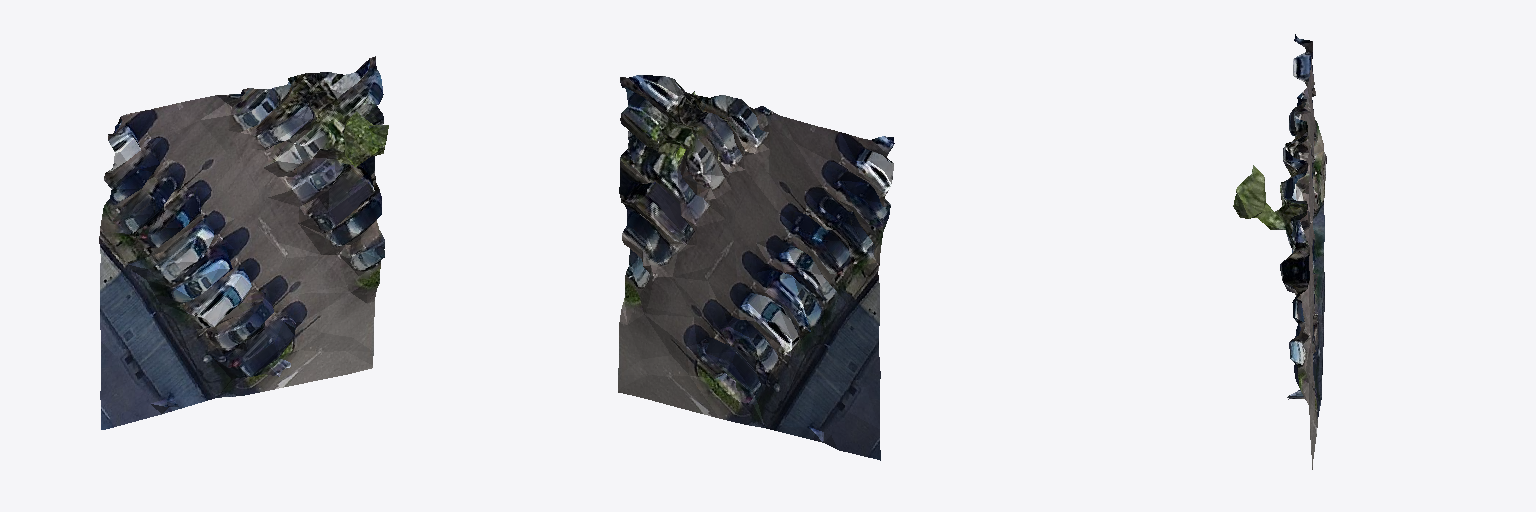
3 renders of one model, left to right at view 1: azimuth 30°, elevation 25°; view 2: azimuth 150°, elevation 25°; view 3: azimuth 270°, elevation 25°, orthographic.
Visible parts, largest first — view 1: obj_0; view 2: obj_0; view 3: obj_0.
Boxes of the visible parts, x1=… form: obj_0: x1=99, y1=56, x2=388, y2=429; obj_0: x1=618, y1=75, x2=894, y2=460; obj_0: x1=1233, y1=34, x2=1326, y2=469.
Size of the model in its own units: 20.08 by 22.52 by 6.09.
Materials: 1 (1 with a texture image).